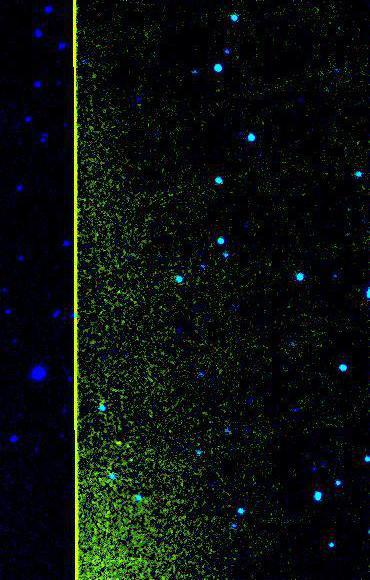star: (104, 428, 134, 458)
